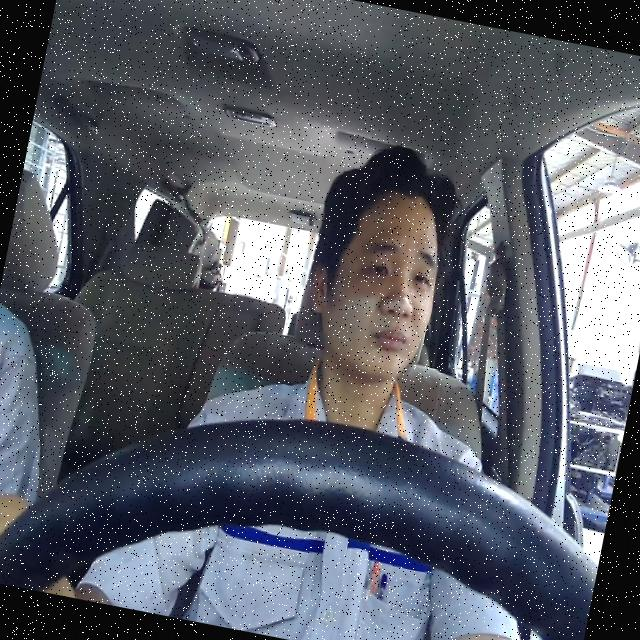seeing_right: (294, 175, 454, 389)
